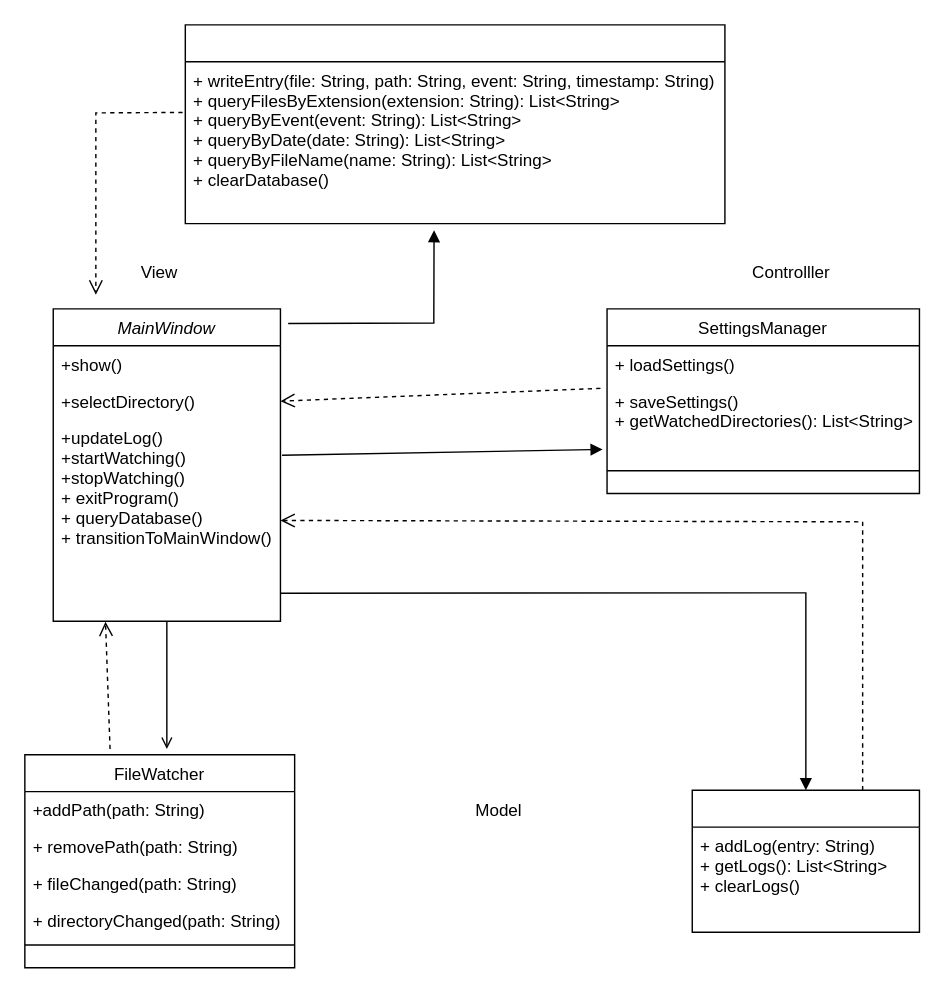
This 944x993 diagram has some shape labels left out. The shapes that lost their labels are listed below. From the top down, each one's box as (x1, y1, x2, y2) in pixels, then its label:
(184, 23, 725, 224): DatabaseManager
(691, 789, 919, 932): LogHandler
